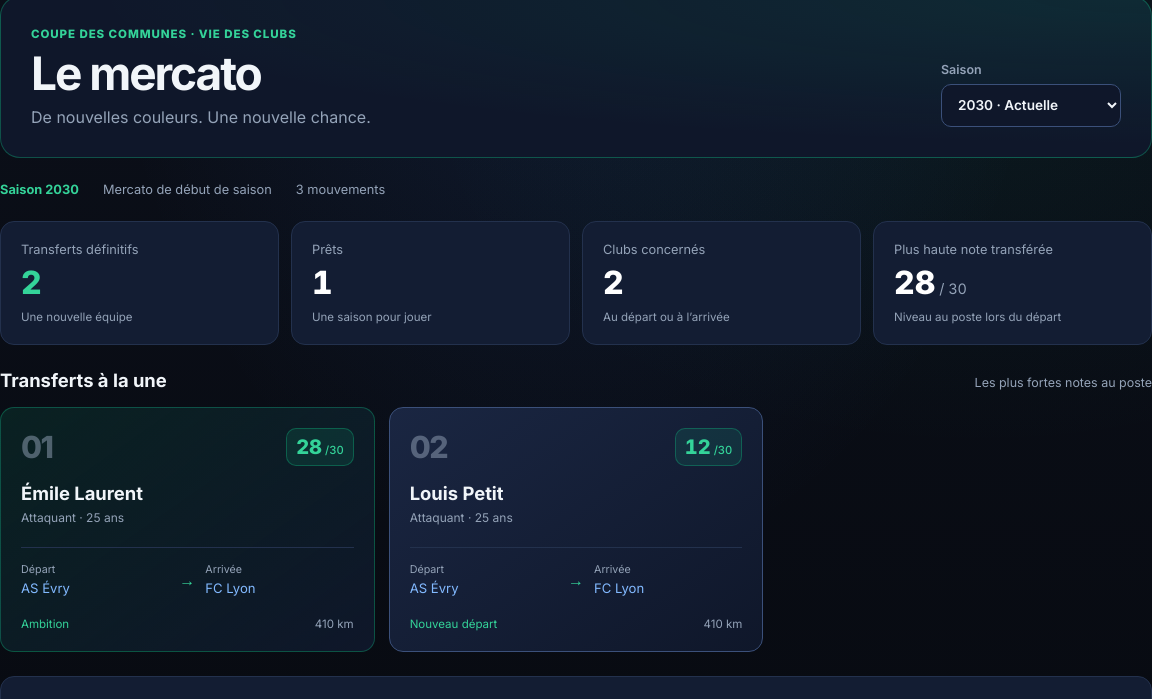
TransfersPage › lets the reader browse an archived season without mixing in the active market
Select "2029 · Archives" in the dropdown labelled "Saison" at (1031, 105), box [941,84,1121,127]
(page scrolled)
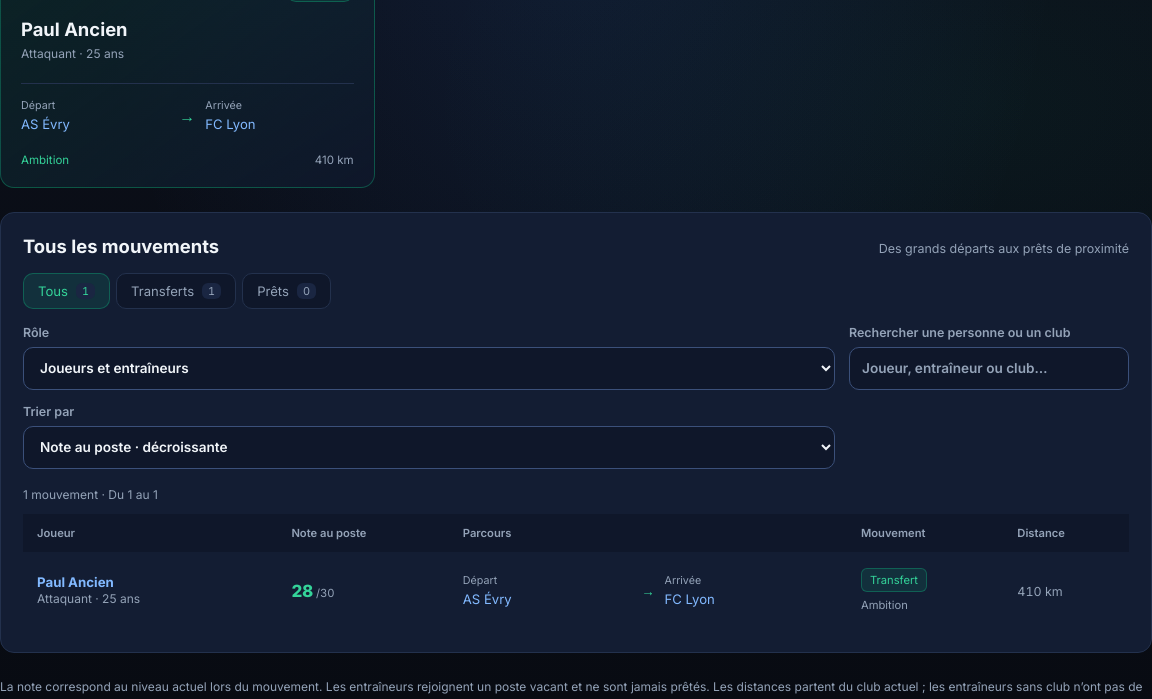
Expected: the link "Paul Ancien" below "Note au poste" is shown, [37,574,114,590]
